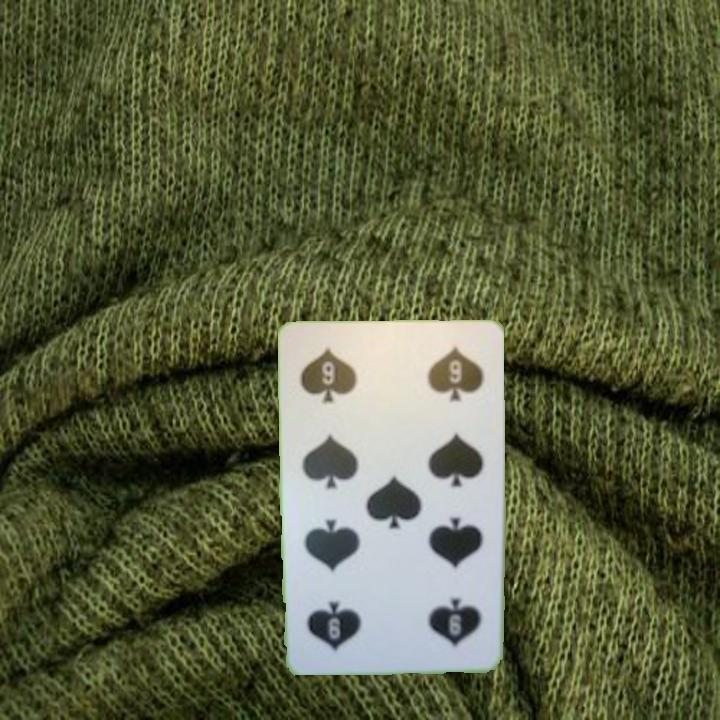s_9.png: (390, 571, 491, 658), (294, 336, 395, 423)
